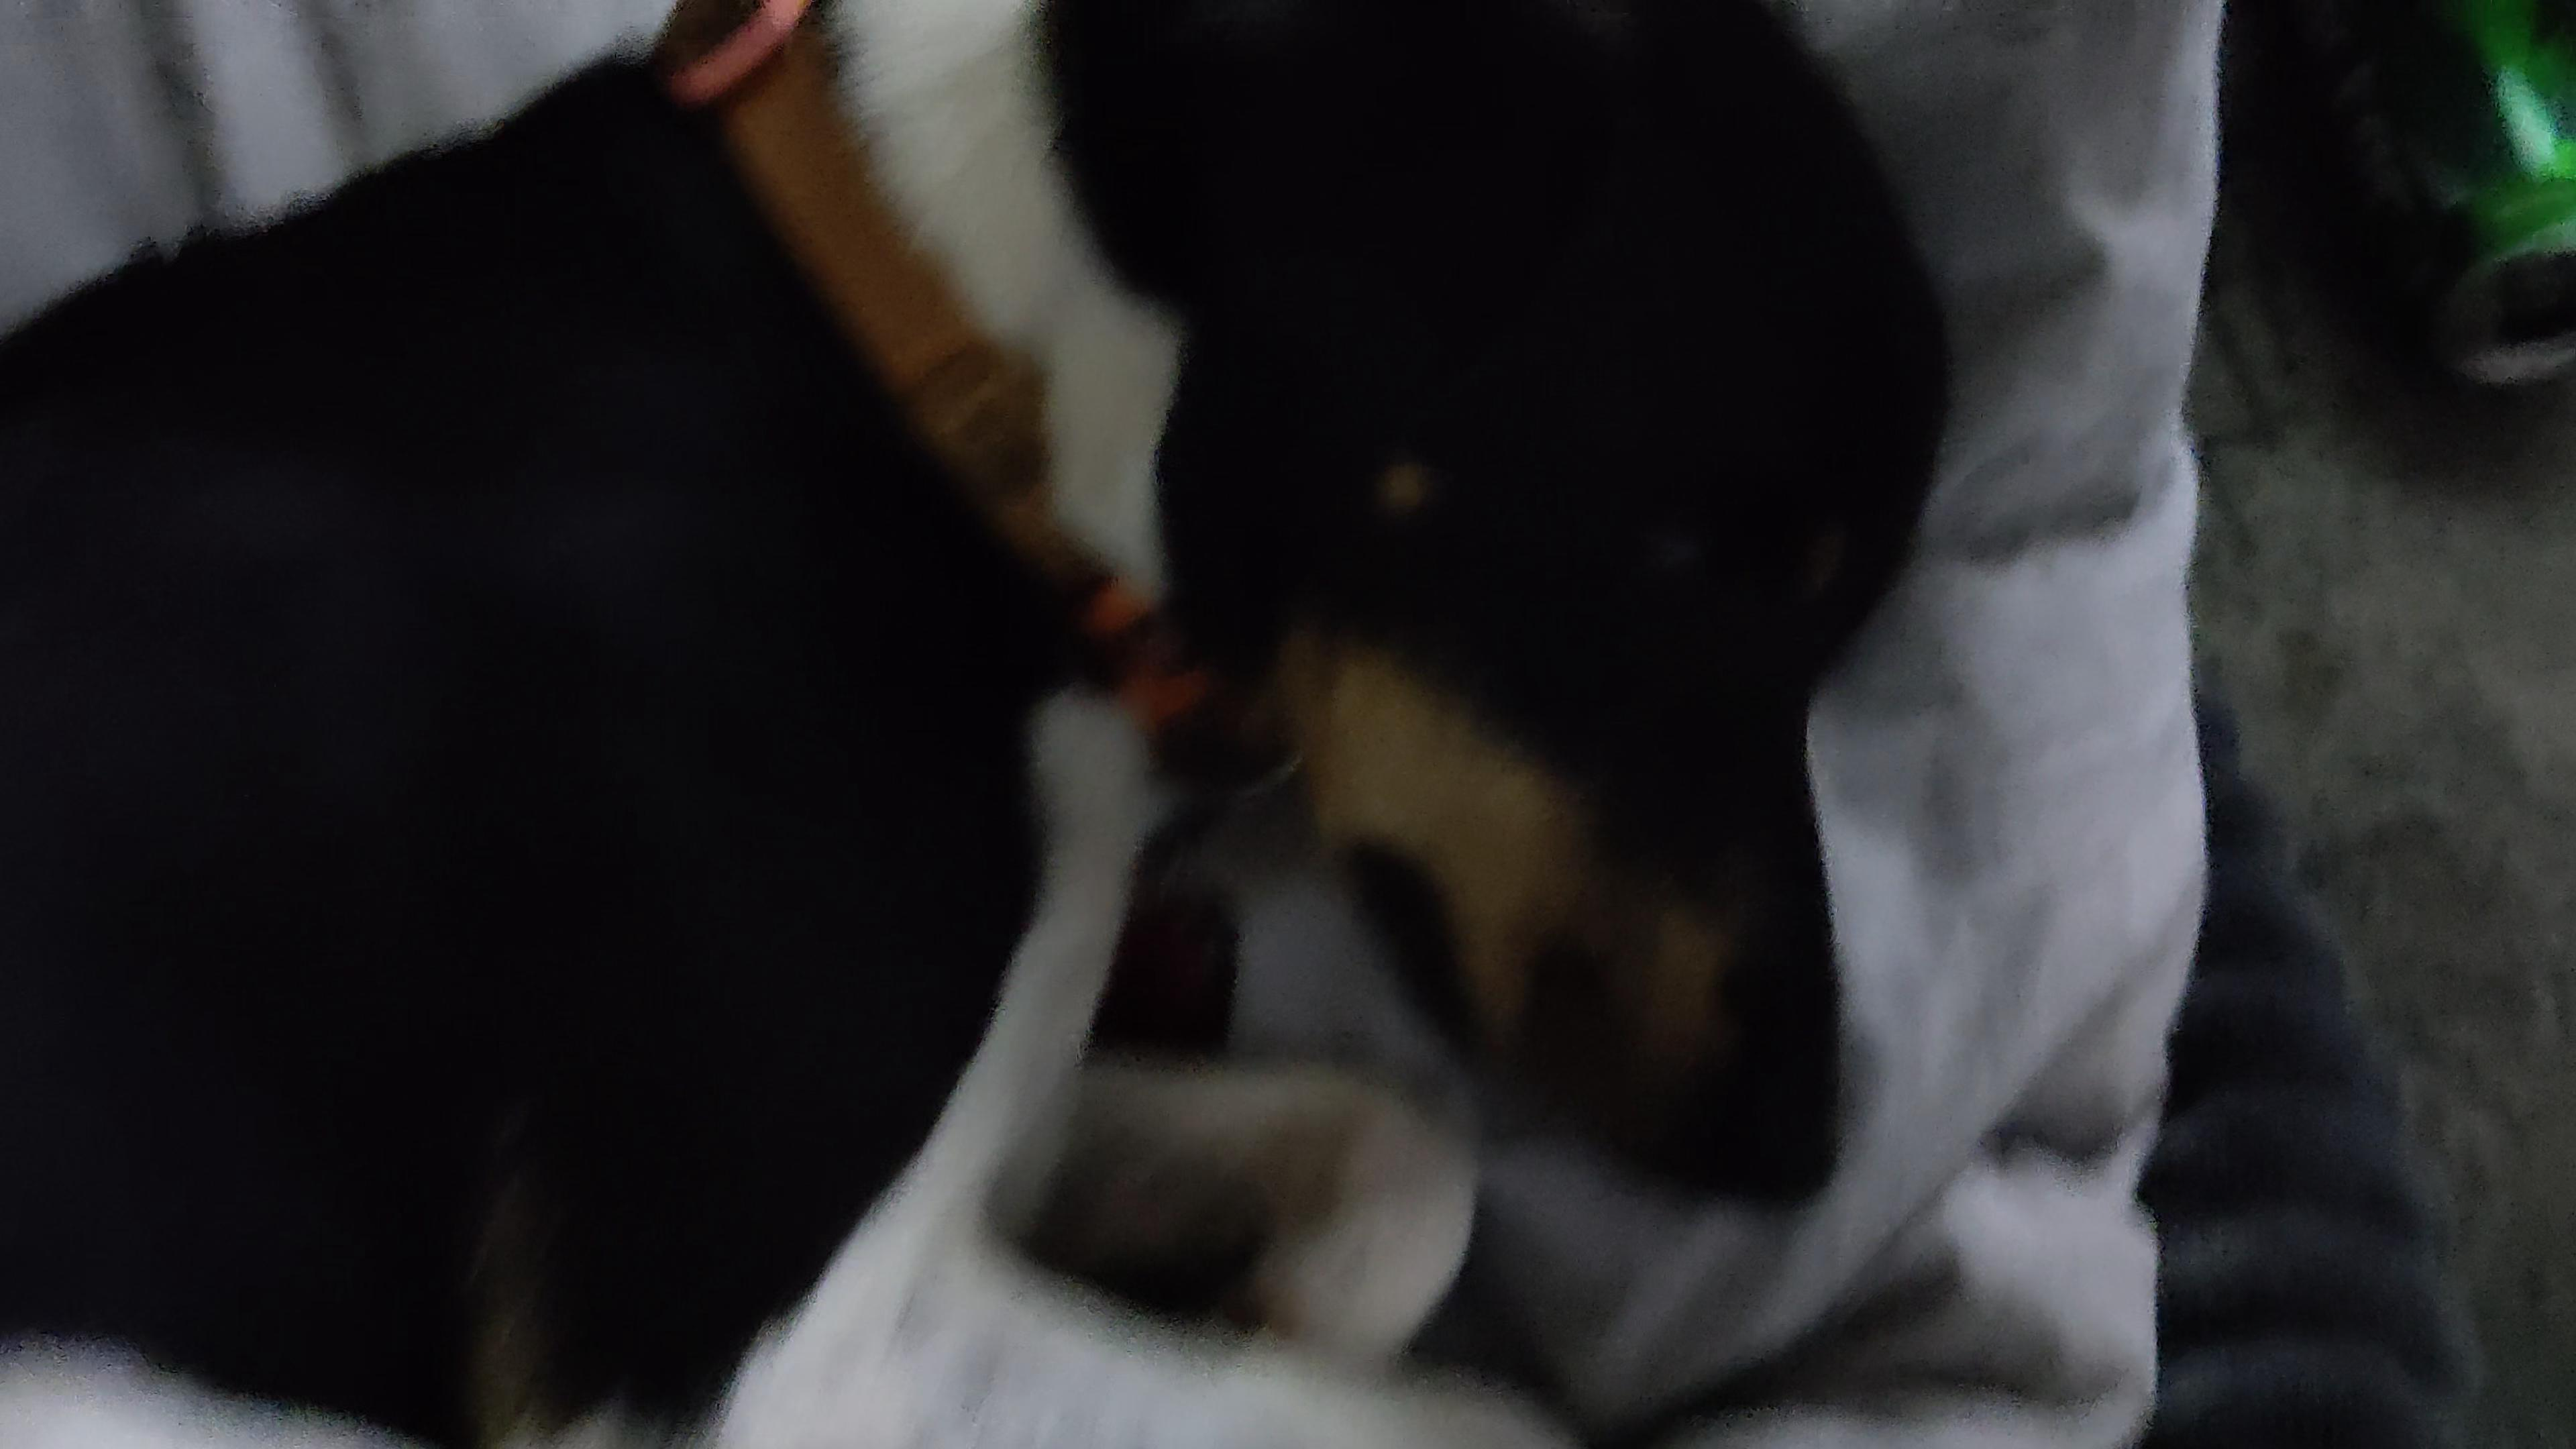Dog: (0, 0, 2005, 1449)
